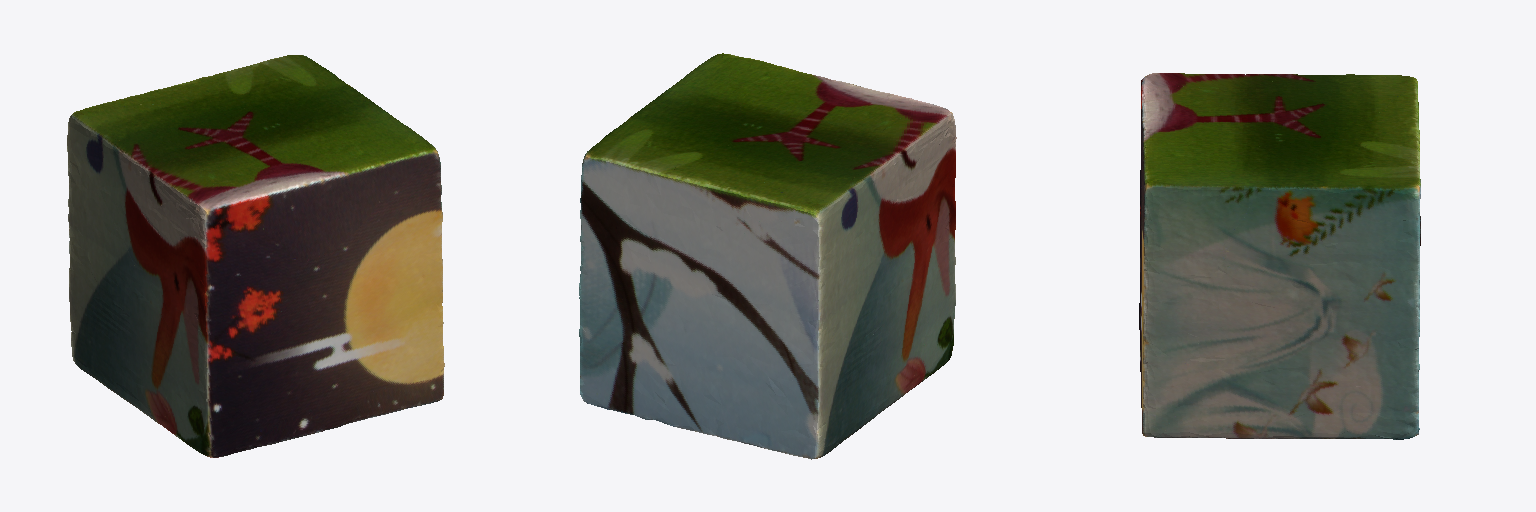
The picture shows the model from 3 angles: view 1: azimuth 30°, elevation 25°; view 2: azimuth 150°, elevation 25°; view 3: azimuth 270°, elevation 25°; orthographic projection.
Visible parts, largest first — view 1: default; view 2: default; view 3: default.
Boxes of the visible parts, x1,y1,x2,y2 form: default: [67, 55, 444, 457]; default: [579, 53, 956, 459]; default: [1139, 73, 1420, 439].
Bounding box in the file's own units: 34.16 × 34.57 × 34.26.
Materials: 1 (1 with a texture image).